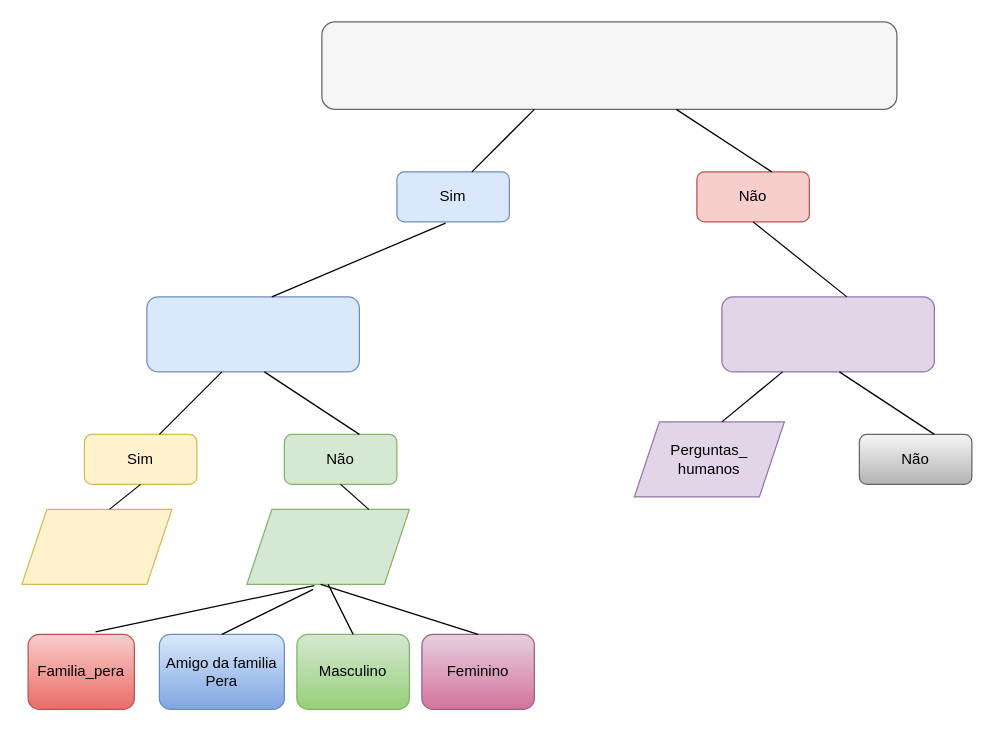
This 994x731 diagram has some shape labels left out. The centre of each missing label's shape, as x and y in pixels:
Perguntas_ MORRERAM: [96,546]
Perguntas_super heroi: [327,546]
Seu personagem já morreu?: [252,334]
Seu personagem é heroi?: [609,65]
Seu personagem é humano: [827,334]
